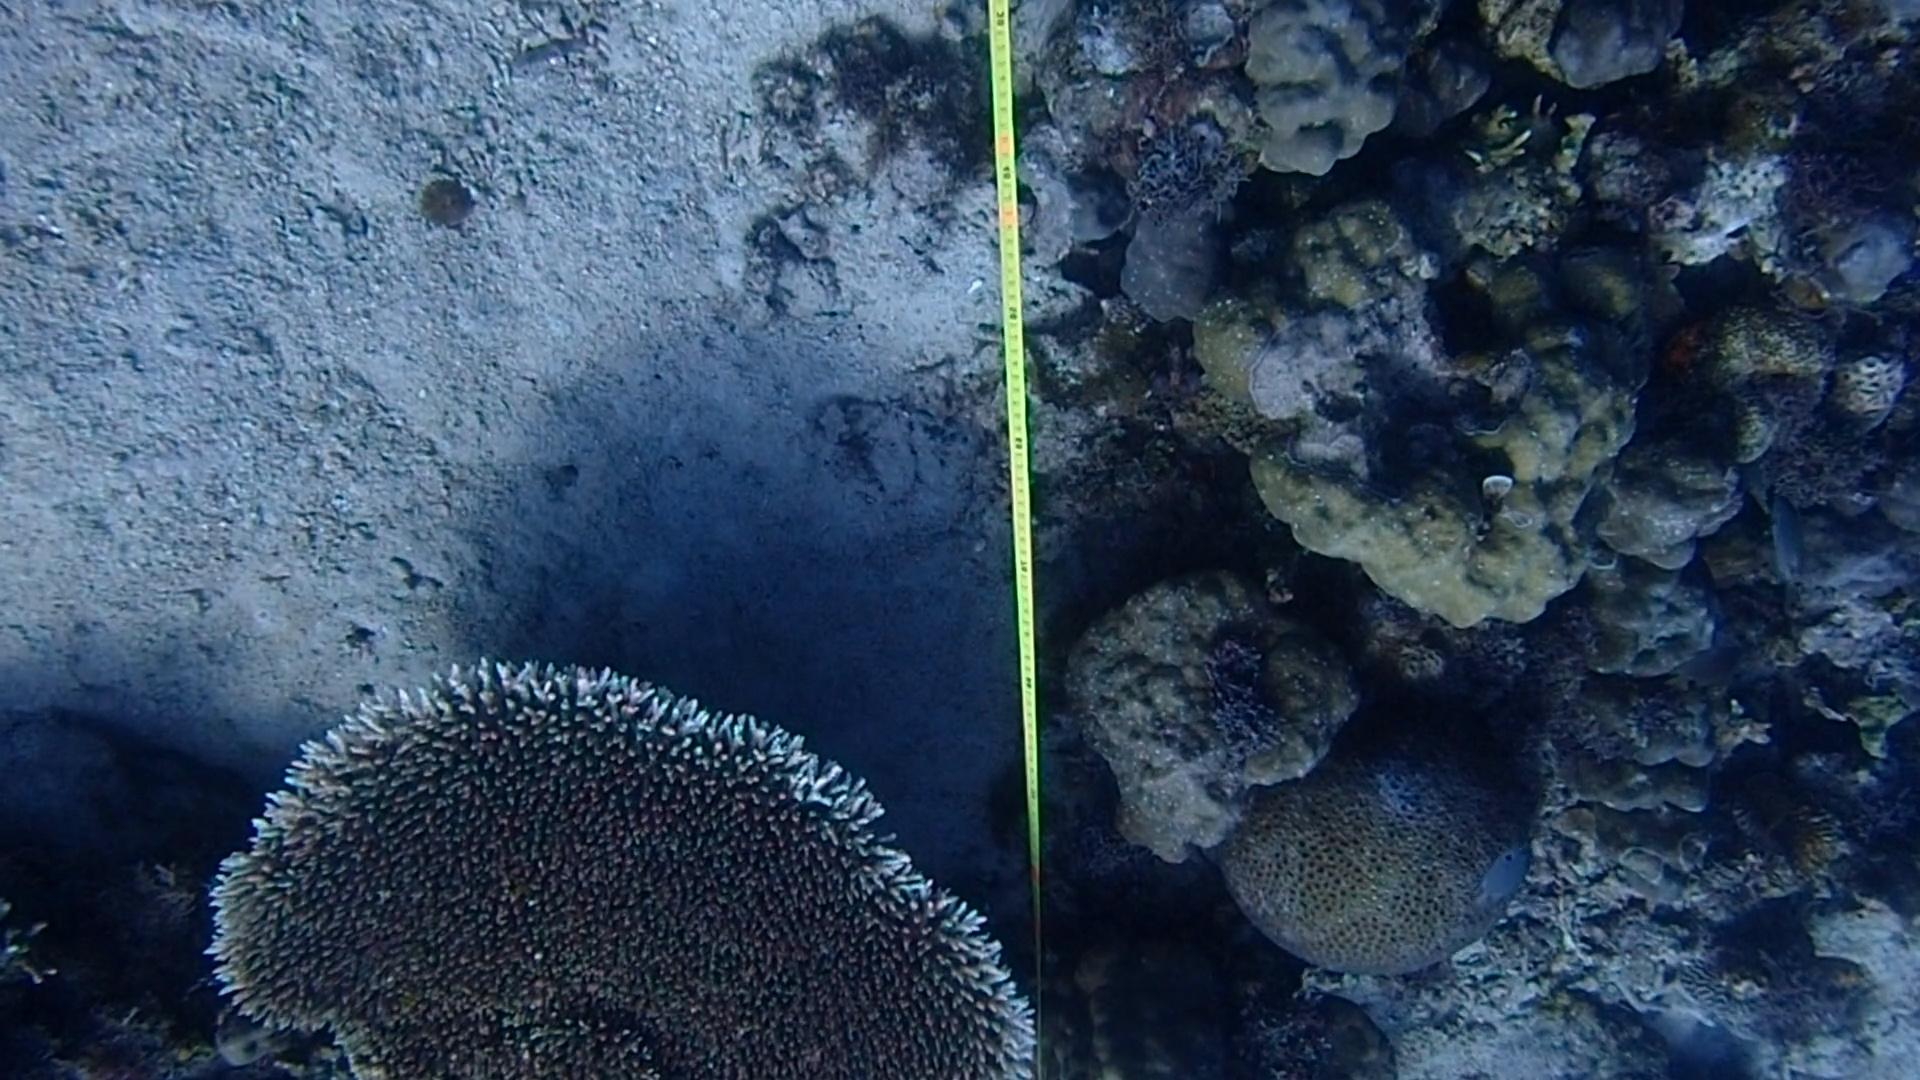Light Fish: (1751, 491, 1820, 600), (1465, 835, 1528, 923)
